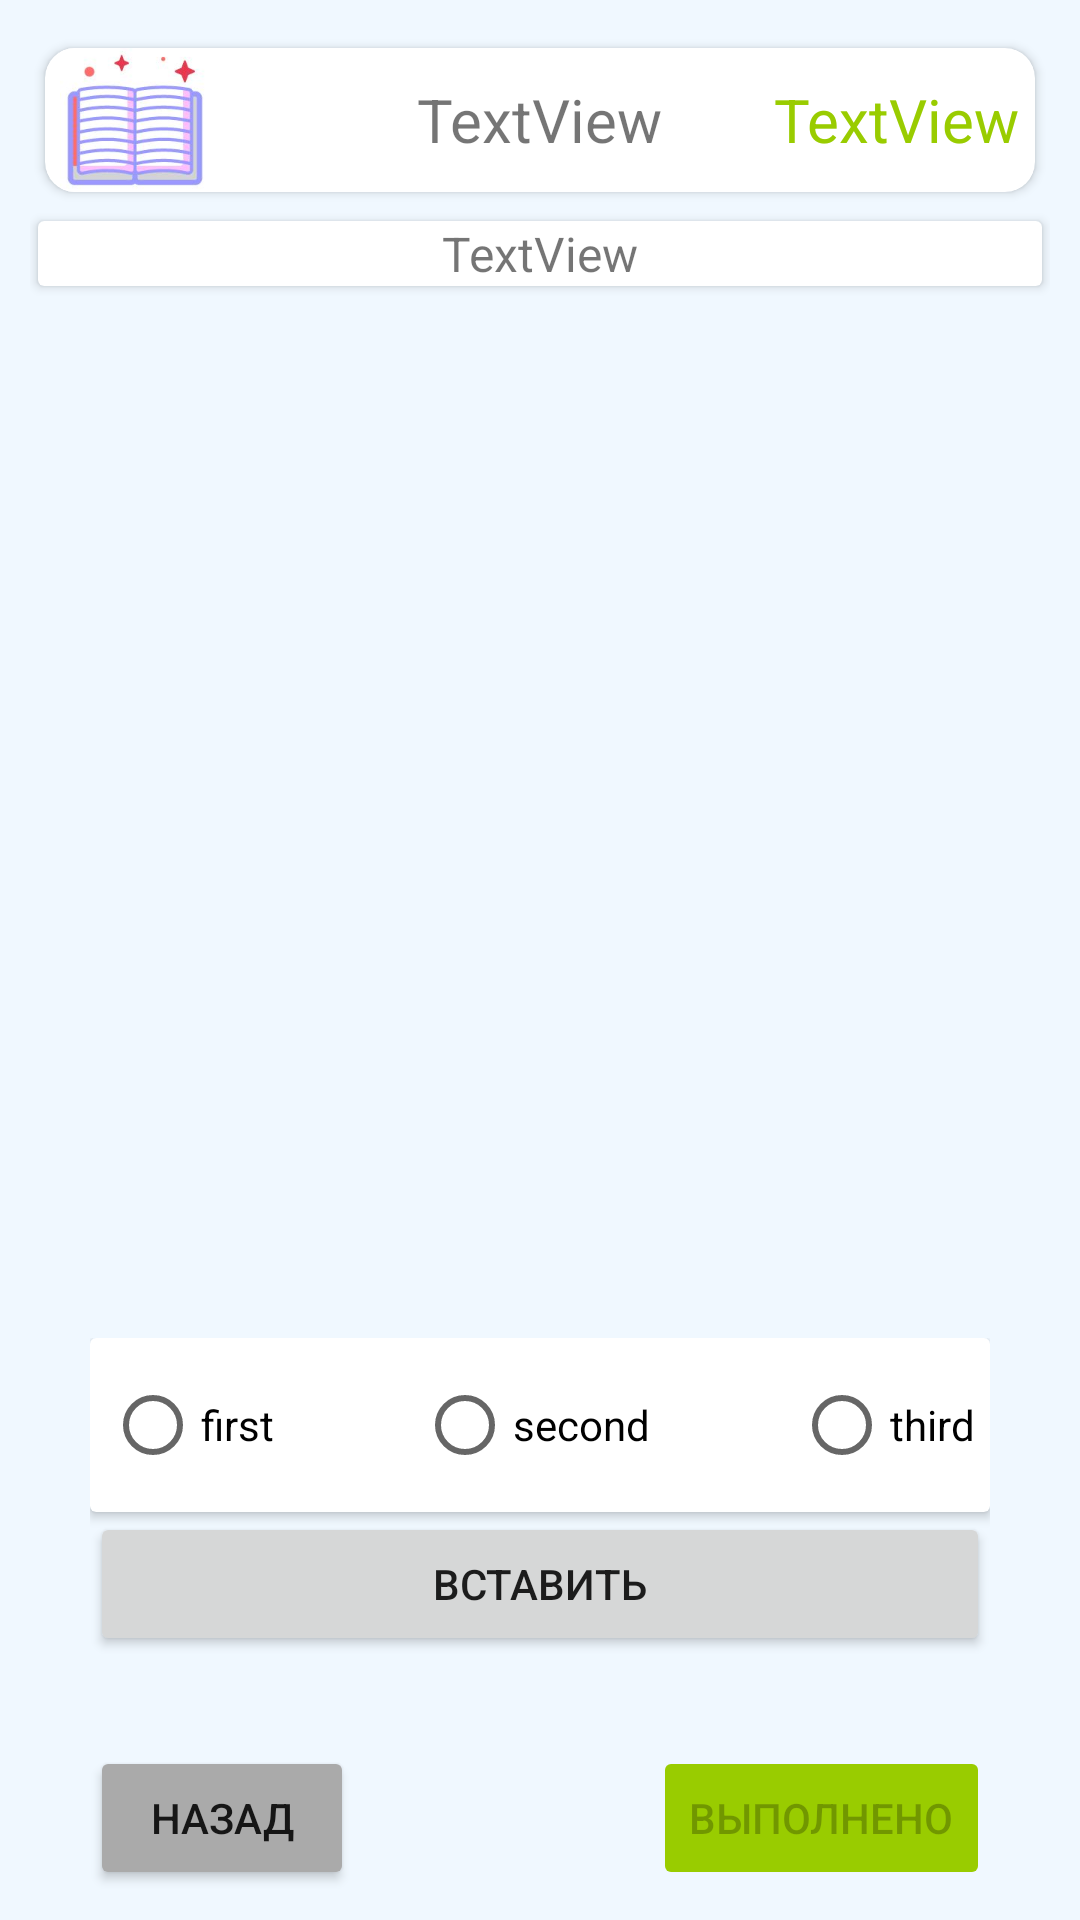

Icon bounding boxes for this 1080px×1920px phone screenshot, format region(x1, y1, x2, y2):
book: region(60, 46, 210, 195)
